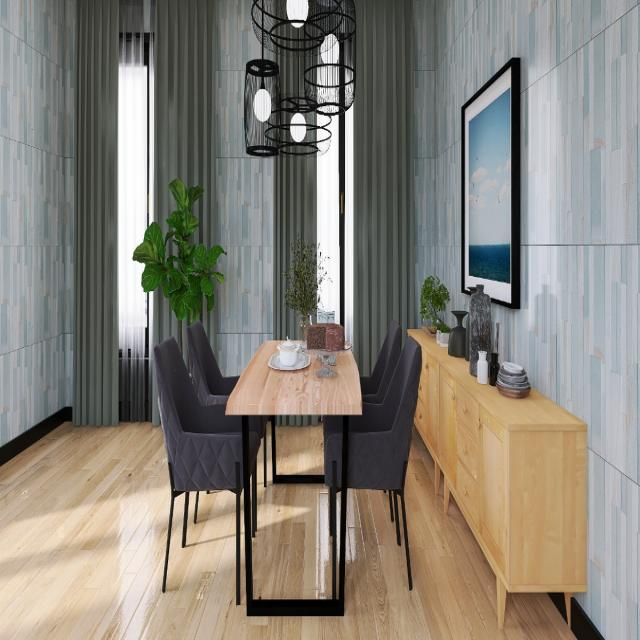modern chair: (147, 330, 259, 600), (318, 337, 427, 601)
modern shelf: (404, 311, 592, 630)
